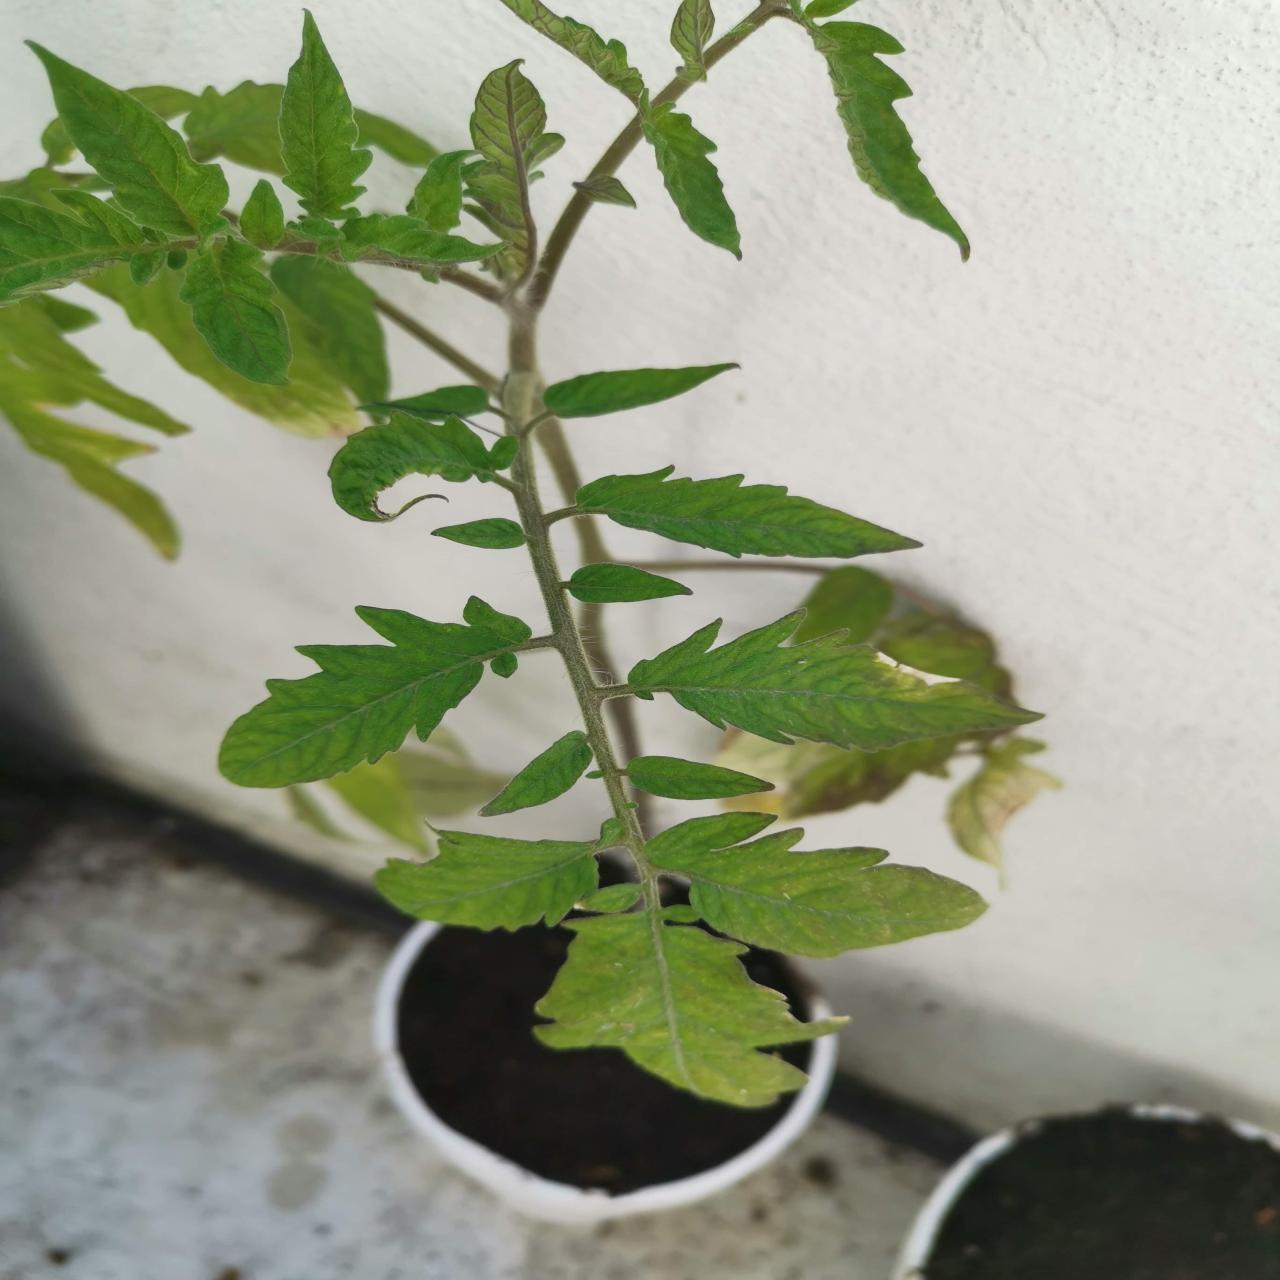T_L_R: (535, 906, 855, 1108), (218, 598, 535, 790), (627, 608, 1047, 753), (644, 812, 990, 959), (789, 1, 972, 267), (25, 41, 232, 238), (574, 465, 927, 560), (372, 818, 626, 934), (275, 8, 372, 241), (328, 411, 522, 523), (1, 189, 168, 307), (639, 90, 745, 260), (178, 234, 294, 387), (309, 216, 515, 272), (479, 731, 595, 817), (626, 757, 778, 799), (408, 151, 484, 233), (571, 563, 695, 604), (237, 181, 288, 253)
